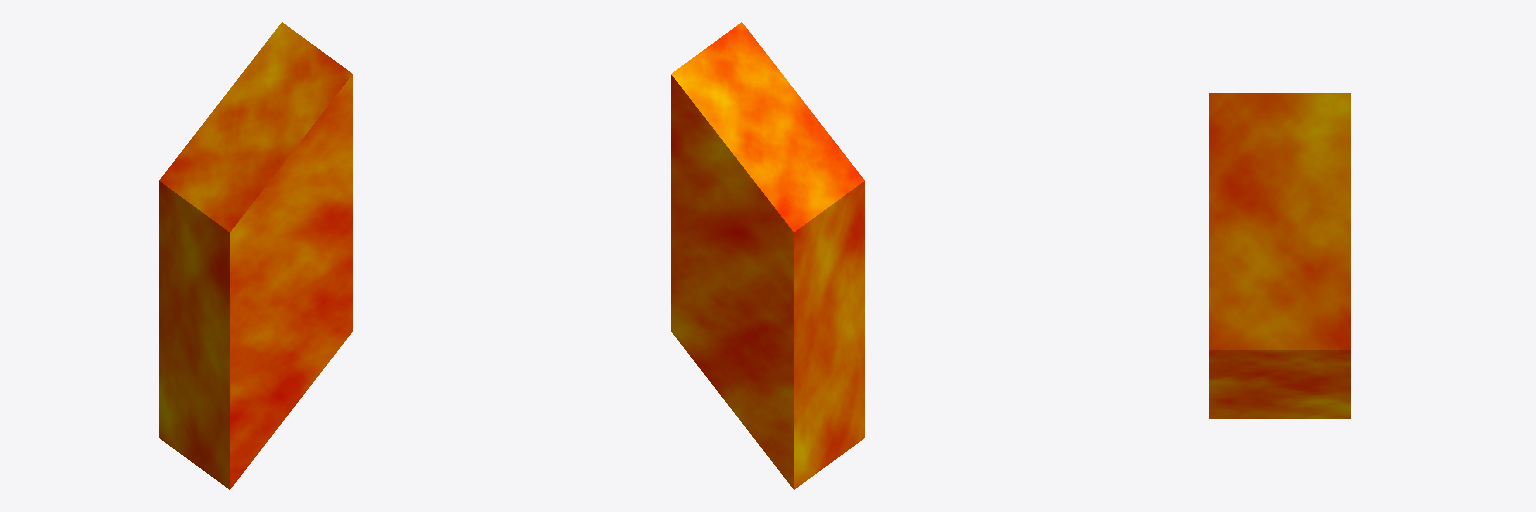
3 views of the same model, side by side, from view 1: azimuth 30°, elevation 25°; view 2: azimuth 150°, elevation 25°; view 3: azimuth 270°, elevation 25° (orthographic).
Parts seen in each view (by area): view 1: Cube; view 2: Cube; view 3: Cube.
Boxes of the visible parts, box(x1,y1,x2,y2) form: Cube: box(159, 22, 352, 489); Cube: box(671, 22, 864, 489); Cube: box(1209, 93, 1350, 418).
Bounding box in the file's own units: 2 × 6 × 2.
1 materials, 1 textured.